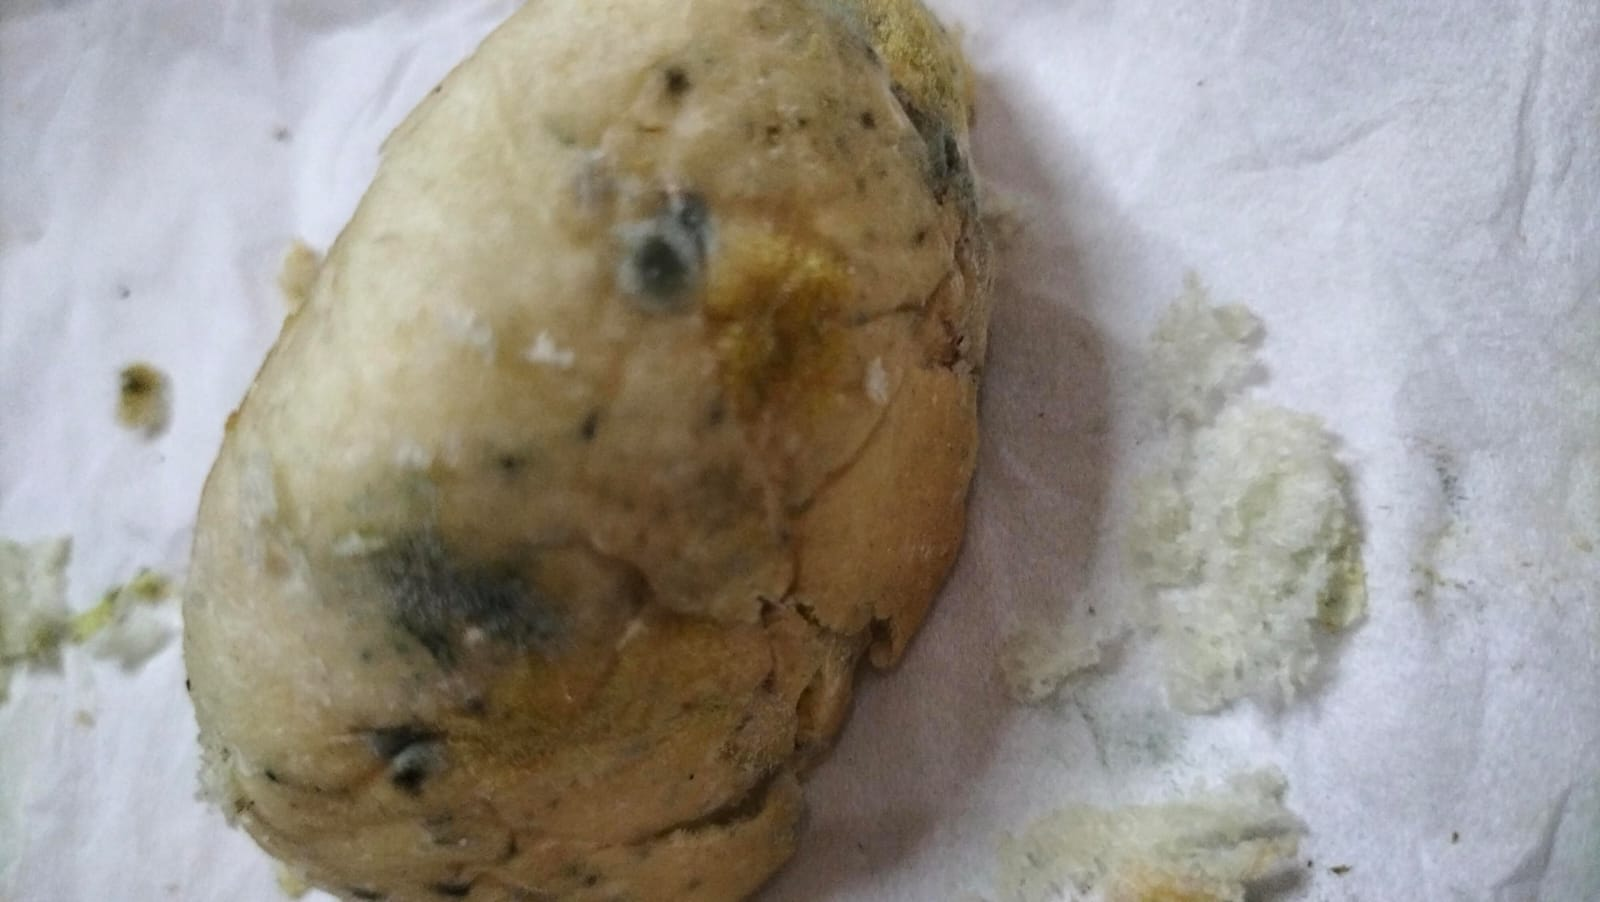mold_bread: (348, 521, 578, 662), (610, 181, 722, 315), (362, 712, 462, 798), (659, 60, 693, 107), (573, 407, 610, 448), (492, 443, 536, 478), (858, 102, 879, 133)
